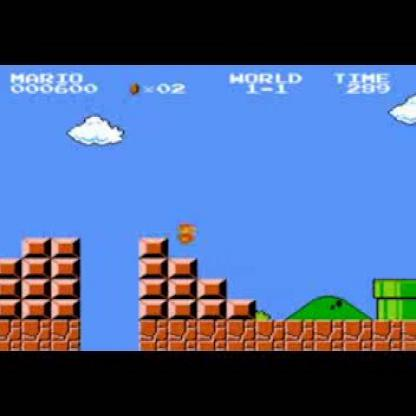Hoyo: (75, 318, 144, 350)
